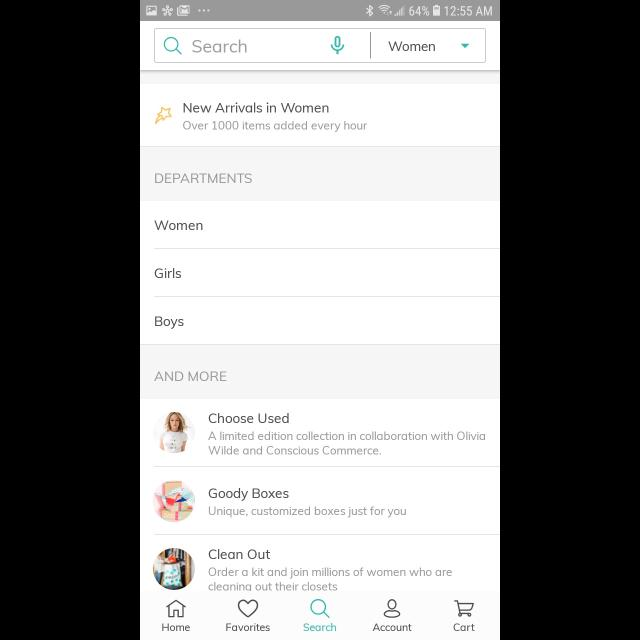icon: (166, 598, 186, 618), (238, 598, 258, 618), (310, 598, 330, 618), (383, 598, 401, 618), (164, 37, 182, 55), (454, 600, 474, 616), (331, 36, 345, 56), (460, 44, 470, 48)
image: (153, 548, 195, 590), (153, 480, 195, 522), (153, 412, 195, 453), (156, 107, 172, 125)
input: (154, 28, 486, 64)
text: (208, 432, 486, 454), (208, 567, 452, 591), (209, 506, 407, 518), (183, 121, 367, 132), (184, 103, 328, 113), (209, 488, 289, 502), (156, 174, 252, 184), (208, 413, 290, 423), (209, 548, 271, 560), (154, 371, 226, 381), (193, 40, 247, 52), (388, 41, 436, 51), (155, 221, 203, 231), (226, 622, 270, 632), (156, 316, 184, 329), (372, 623, 412, 631), (304, 622, 336, 632), (154, 268, 182, 278), (162, 623, 190, 631), (453, 623, 475, 631)
uppertaskbar: (140, 1, 500, 22)
